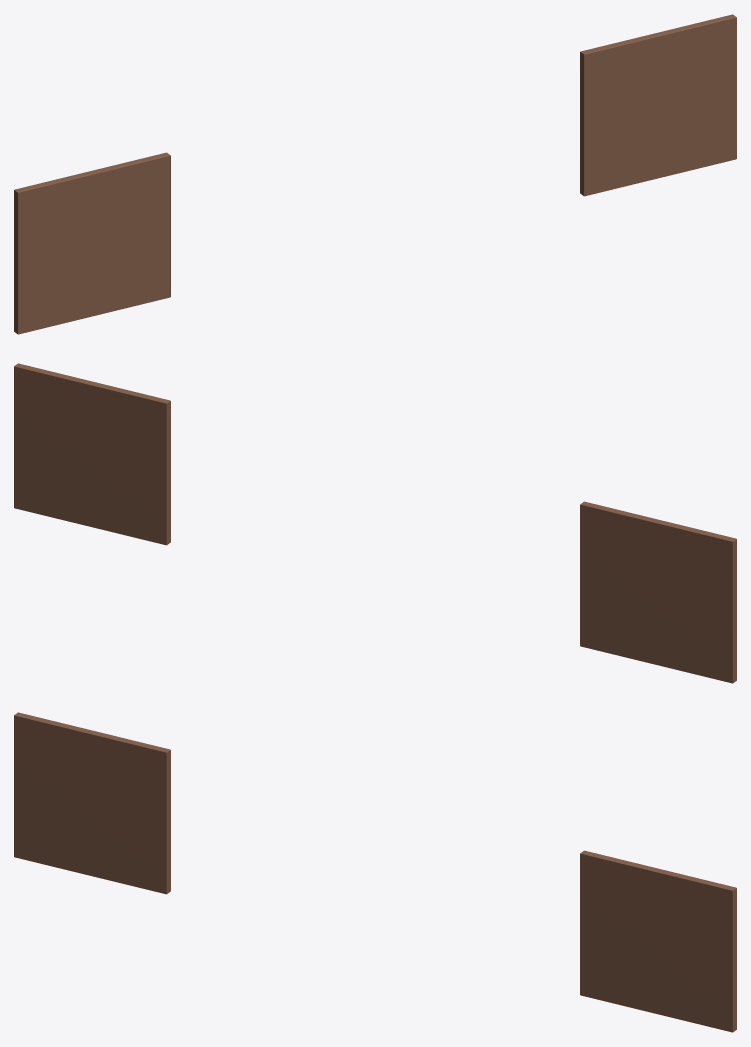
Rendered from Pawnshop_ClosedFrontReturn62.fbx.
The picture shows the model from 3 angles, top to bottom: view 1: azimuth 30°, elevation 25°; view 2: azimuth 150°, elevation 25°; view 3: azimuth 330°, elevation 25°; orthographic projection.
Visible parts, largest first — view 1: Pawnshop_ClosedFrontReturn62; view 2: Pawnshop_ClosedFrontReturn62; view 3: Pawnshop_ClosedFrontReturn62.
Part boxes in pixels (x1=…): Pawnshop_ClosedFrontReturn62: x1=14, y1=14, x2=736, y2=334; Pawnshop_ClosedFrontReturn62: x1=14, y1=363, x2=736, y2=683; Pawnshop_ClosedFrontReturn62: x1=14, y1=712, x2=736, y2=1032.
Size of the model in its own units: 1588 by 300 by 16.
